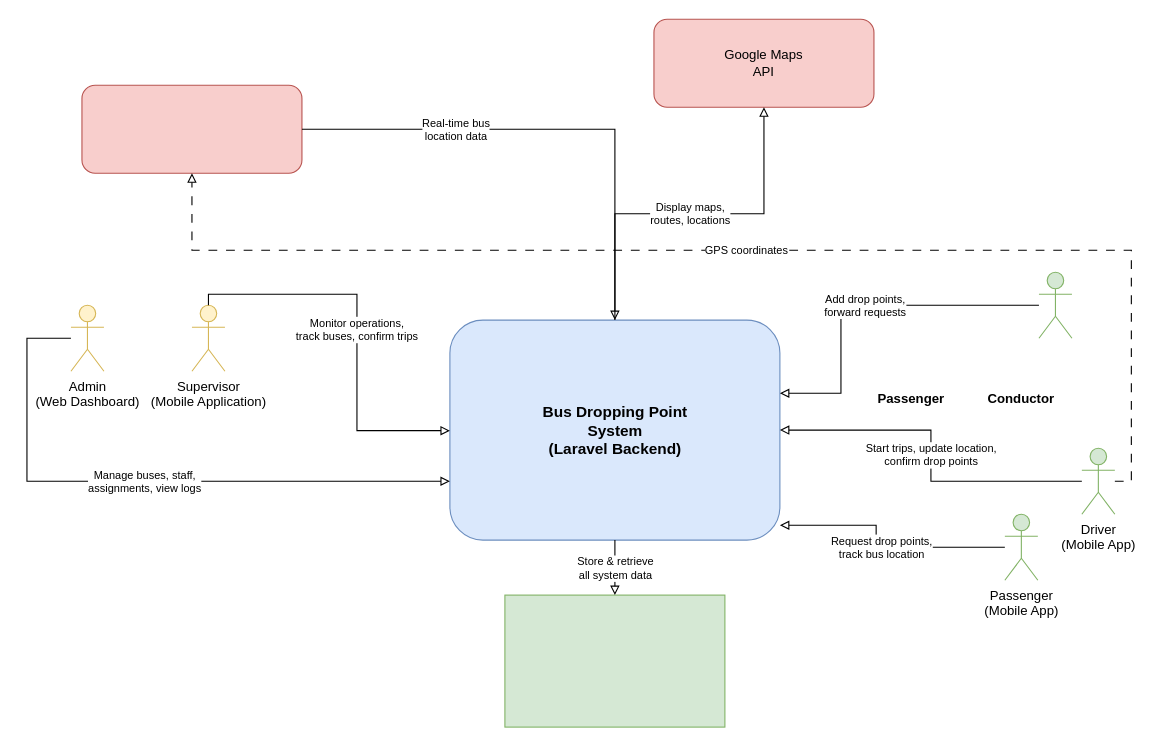
Image size: 1159x747. Some labels were removed from this diagram. The centre of each missing label's shape, as x and y in pixels:
"Conductor (Mobile App)" belongs at point 1055,304.
"GPS Location Service" belongs at point 191,128.
"MySQL Database" belongs at point 614,660.
